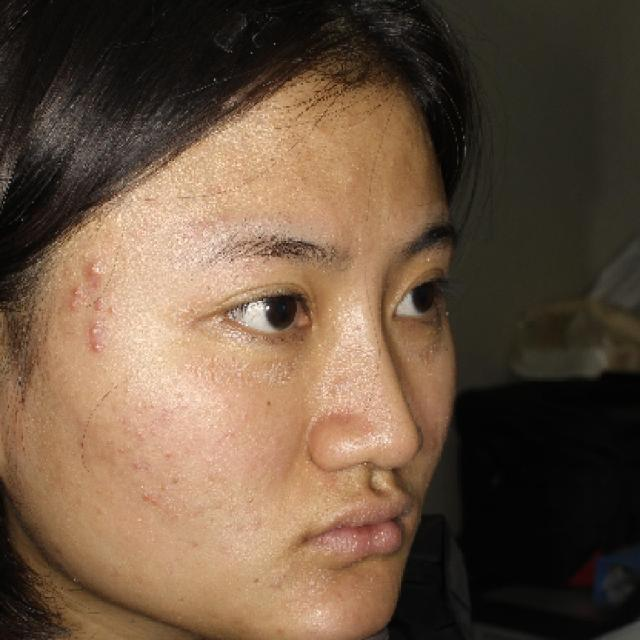Acne: (80, 320, 109, 340), (83, 258, 106, 280), (61, 294, 85, 314), (84, 338, 108, 358), (65, 282, 87, 300)
Blackheads: (240, 485, 271, 518), (256, 388, 288, 416), (244, 571, 270, 591)
Whiteheads: (103, 299, 125, 319)
